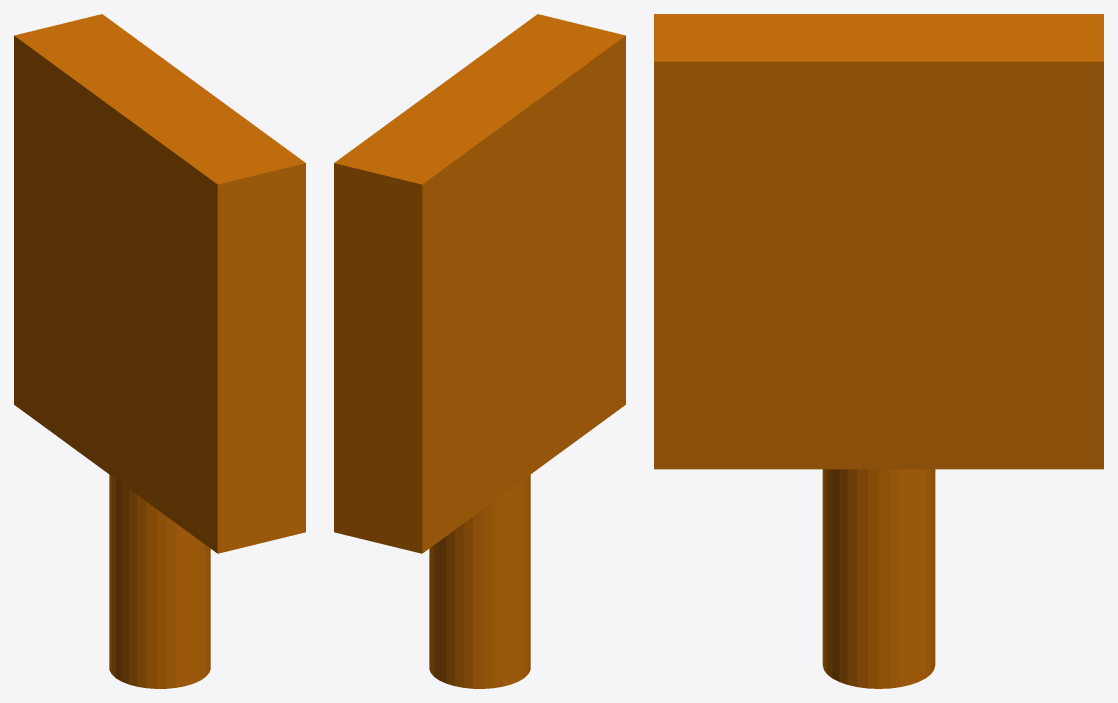
The model's file is _oule.fbx.
3 renders of one model, left to right at view 1: azimuth 30°, elevation 25°; view 2: azimuth 150°, elevation 25°; view 3: azimuth 270°, elevation 25°, orthographic. The views are drawn at different scales.
Parts seen in each view (by area): view 1: Cube, Cylindre; view 2: Cube, Cylindre; view 3: Cube, Cylindre.
Part boxes in pixels (left/top/right/bottom): Cube: left=14, top=14, right=305, bottom=553; Cylindre: left=109, top=475, right=210, bottom=688; Cube: left=334, top=14, right=625, bottom=553; Cylindre: left=429, top=475, right=530, bottom=688; Cube: left=654, top=14, right=1103, bottom=469; Cylindre: left=822, top=469, right=935, bottom=688.
Size of the model in its own units: 100 by 616 by 400.
